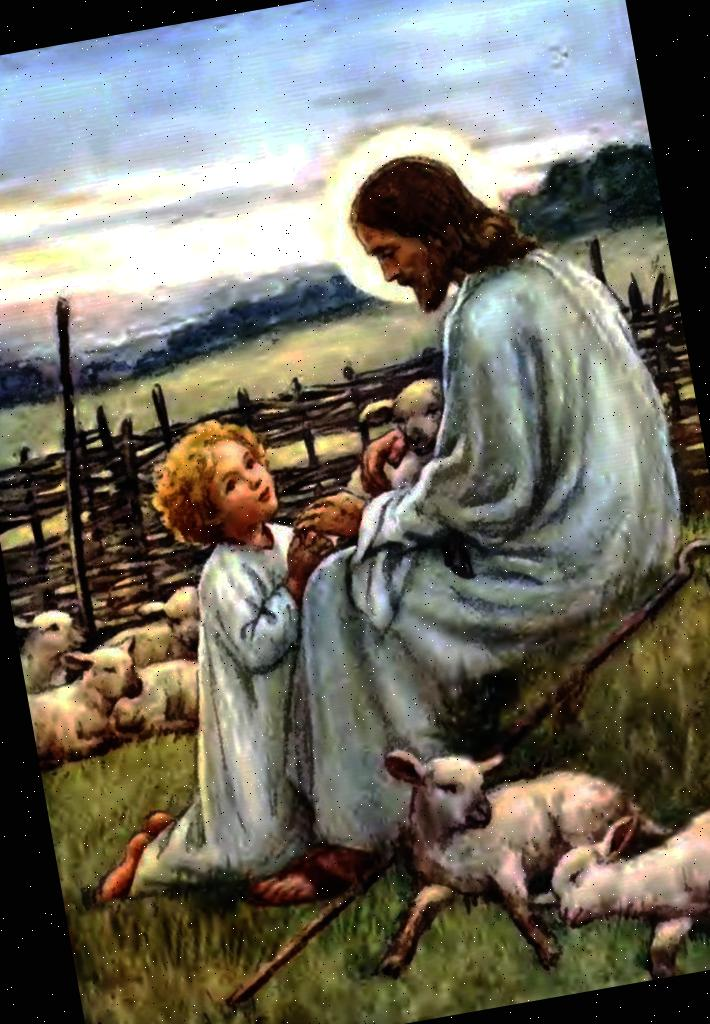Sheep: (342, 710, 684, 994), (528, 790, 710, 995), (21, 642, 151, 764), (334, 376, 454, 496), (90, 589, 210, 669), (103, 657, 210, 742), (13, 606, 81, 690)
